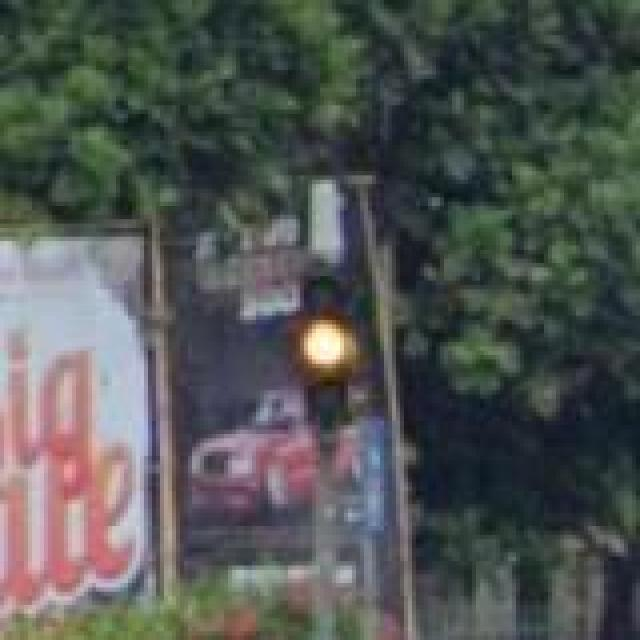yellow_light: (296, 267, 356, 420)
